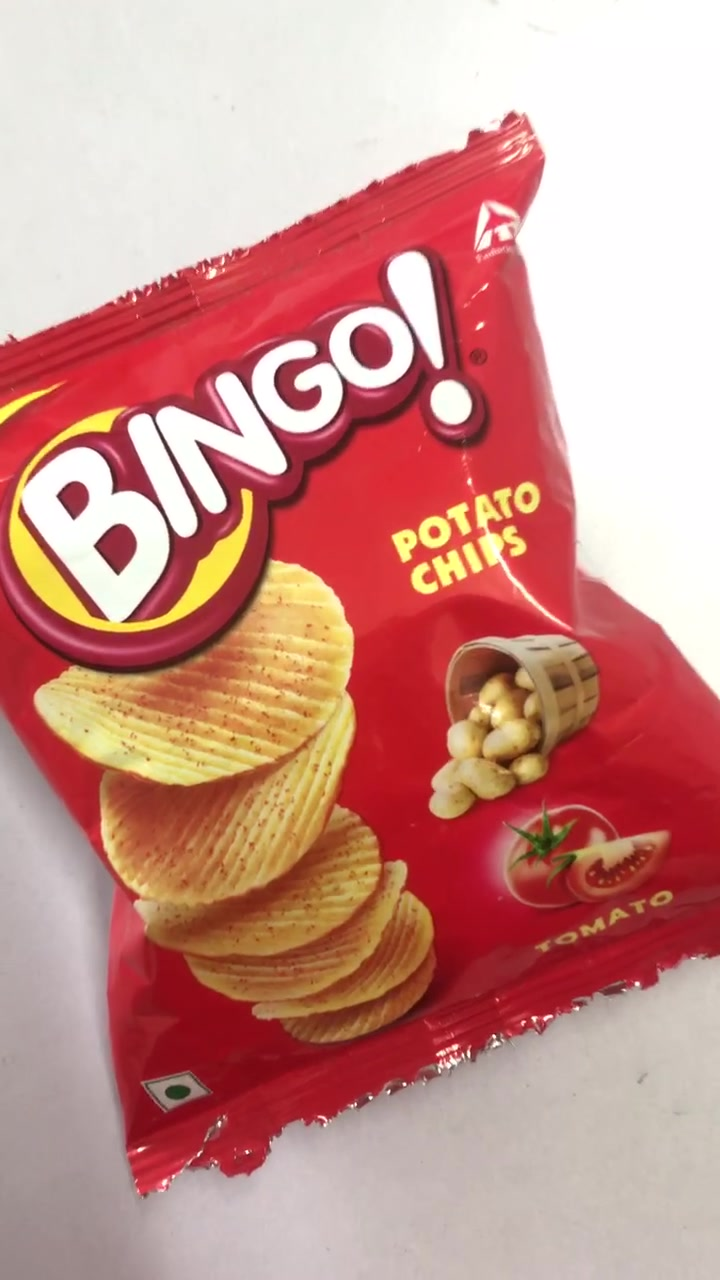Bingo: (1, 167, 717, 1174)
